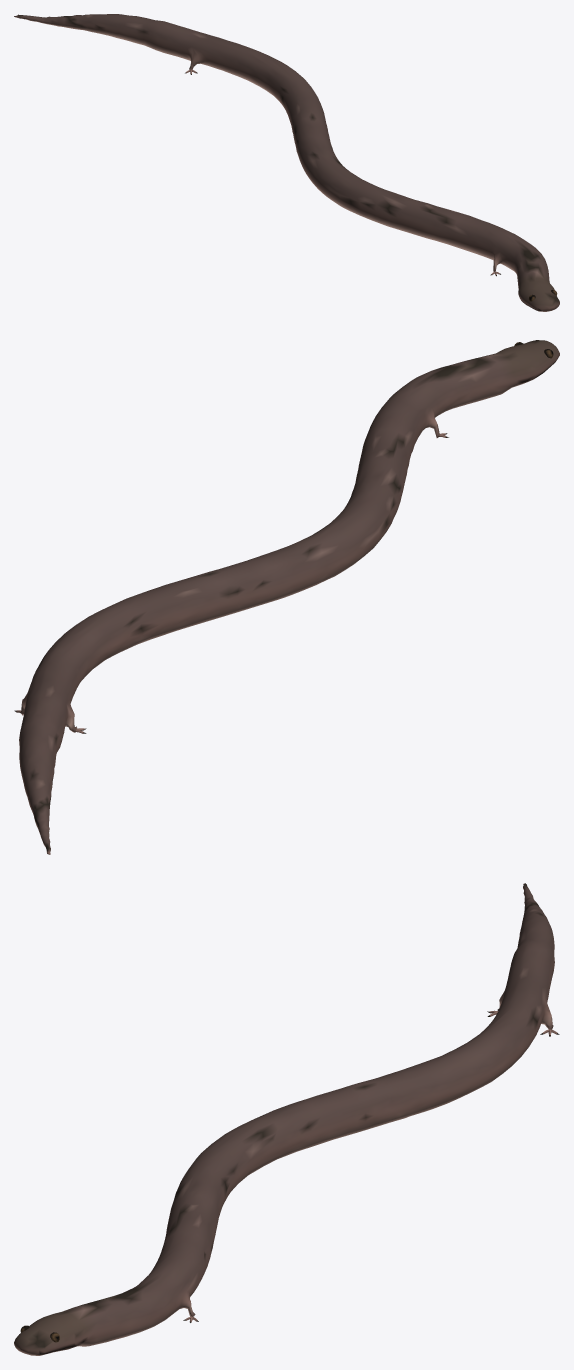
File: Brachydectes.fbx
3 renders of one model, top to bottom at view 1: azimuth 30°, elevation 25°; view 2: azimuth 150°, elevation 25°; view 3: azimuth 330°, elevation 25°, orthographic. The views are drawn at different scales.
Parts seen in each view (by area): view 1: Brachydectes; view 2: Brachydectes; view 3: Brachydectes.
Boxes of the visible parts, x1,y1,x2,y2 form: Brachydectes: (14, 14, 559, 311); Brachydectes: (14, 340, 559, 854); Brachydectes: (14, 883, 559, 1355).
Size of the model in its own units: 0.2071 by 0.0427 by 1.11.
